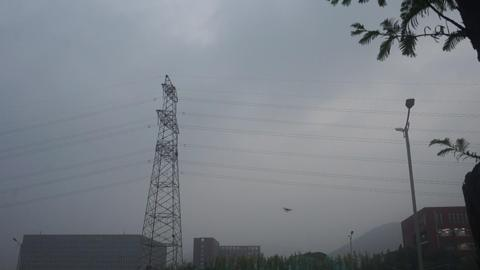UAV: (282, 208, 293, 212)
